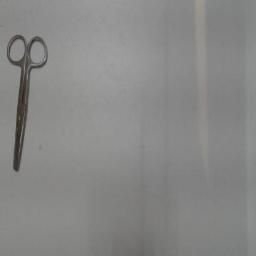Dressing Scissors: (4, 28, 52, 180)
